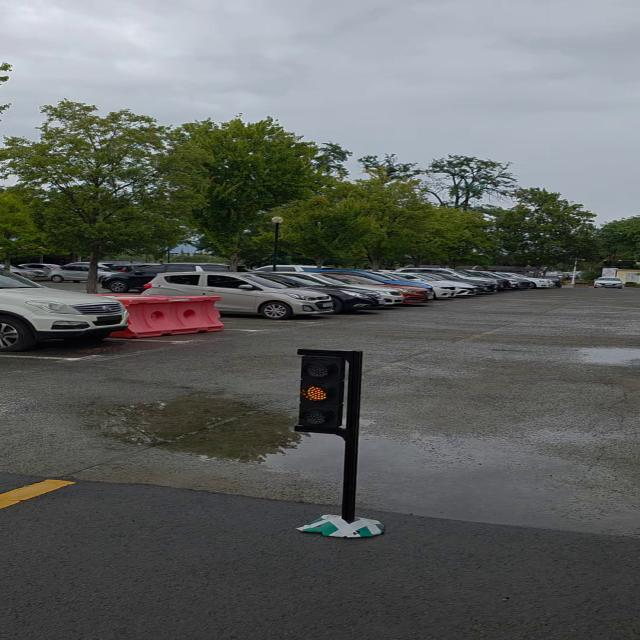yellow: (296, 352, 354, 432)
